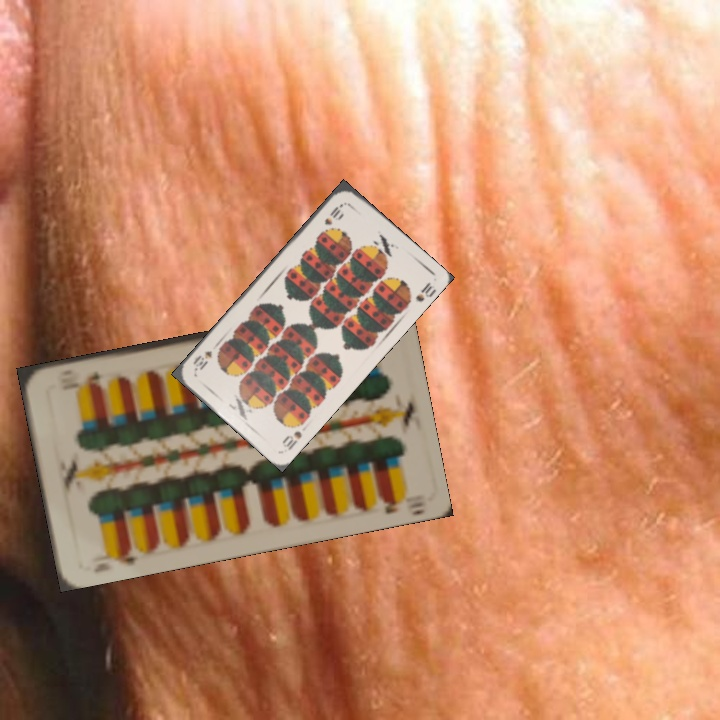E10: (108, 542, 139, 568)
S10: (320, 200, 346, 228), (278, 427, 304, 453)
